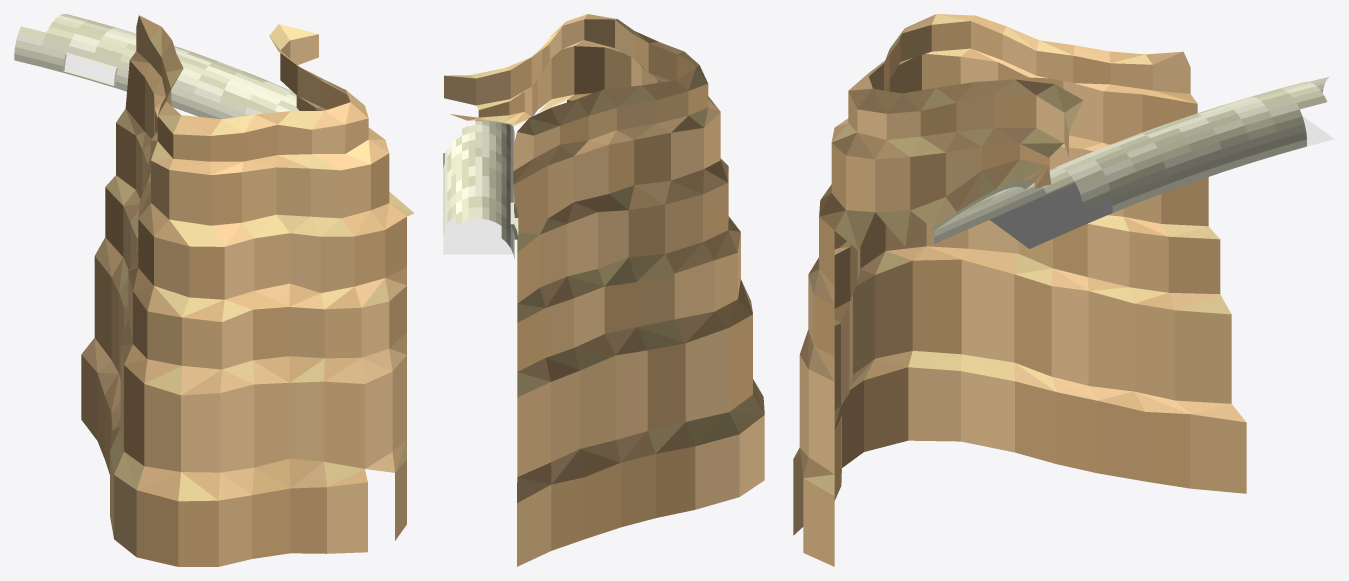
3 renders of one model, left to right at view 1: azimuth 30°, elevation 25°; view 2: azimuth 150°, elevation 25°; view 3: azimuth 270°, elevation 25°, orthographic. The views are drawn at different scales.
Parts seen in each view (by area): view 1: O32B17; view 2: O32B17; view 3: O32B17.
Part boxes in pixels (<box>): O32B17: <box>14,14,414,566</box>; O32B17: <box>443,14,764,566</box>; O32B17: <box>793,14,1334,566</box>.
Bounding box in the file's own units: 86.5 × 128 × 135.
